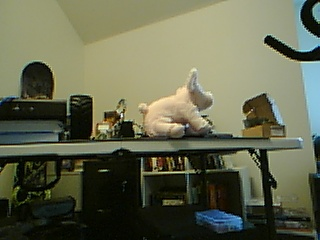piggy: (137, 66, 216, 139)
